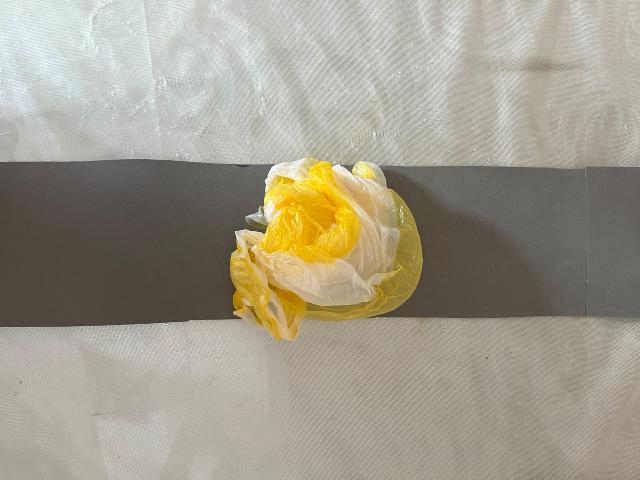LDPE: (177, 114, 546, 393)
